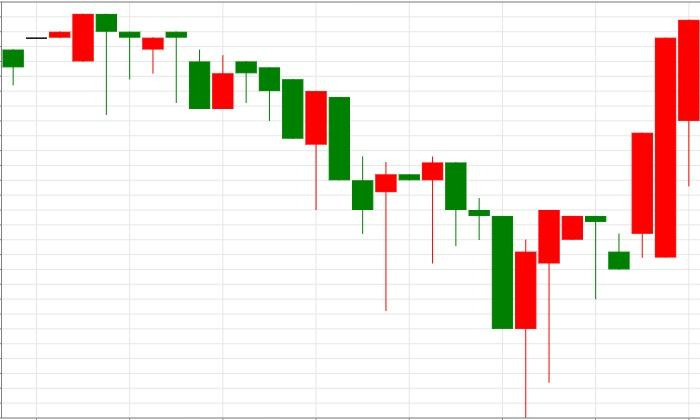hanging_man_fall: (2, 13, 117, 114)
